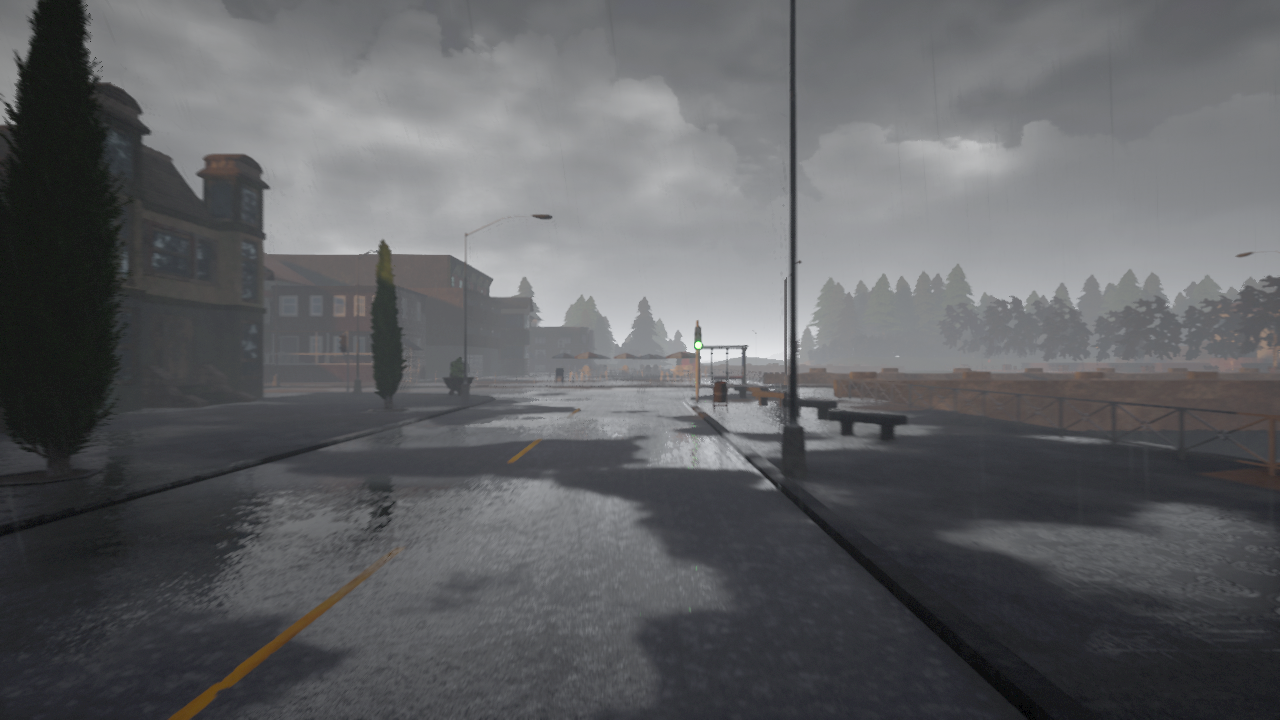green: (694, 326, 702, 350)
